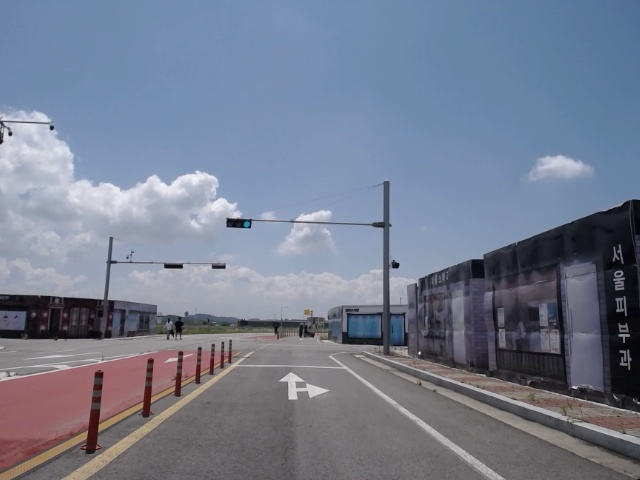green_3: (226, 218, 252, 229)
